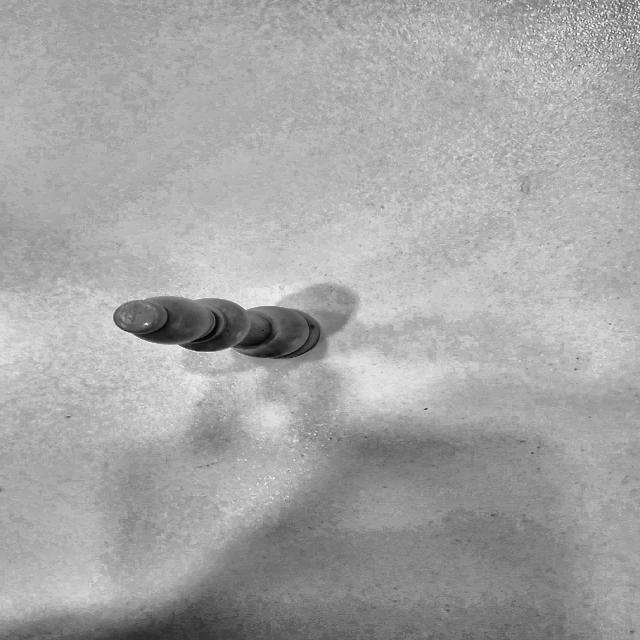white-bishop: (87, 283, 384, 375)
